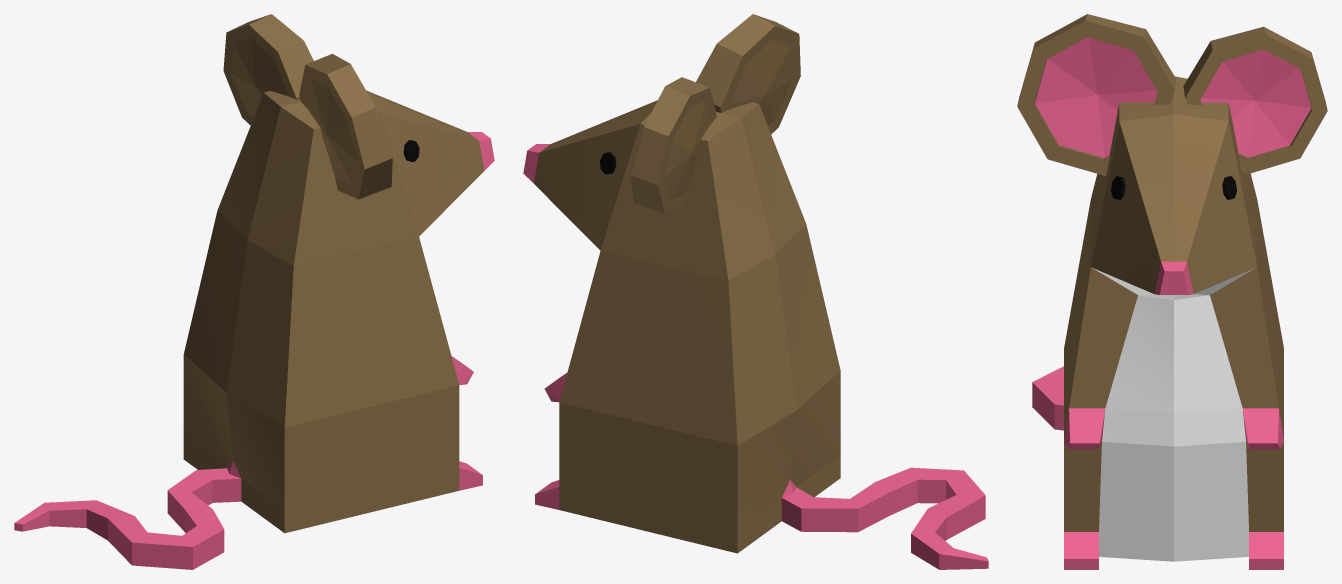
Rendered from Mouse_Ally.obj.
The picture shows the model from 3 angles, left to right: view 1: azimuth 30°, elevation 25°; view 2: azimuth 150°, elevation 25°; view 3: azimuth 270°, elevation 25°; orthographic projection. The views are drawn at different scales.
Parts seen in each view (by area): view 1: Cube.024; view 2: Cube.024; view 3: Cube.024.
Part boxes in pixels (x1,y1,x2,y2): Cube.024: [14, 14, 494, 569]; Cube.024: [523, 14, 988, 569]; Cube.024: [1017, 14, 1327, 569].
Size of the model in its own units: 1.25 by 1.15 by 0.6659.
